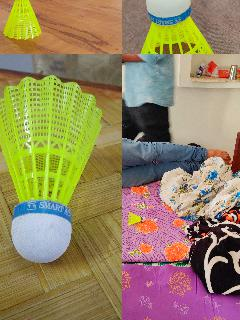shuttlecock: (0, 74, 103, 263), (133, 0, 221, 53), (3, 0, 42, 39), (128, 212, 144, 224)
